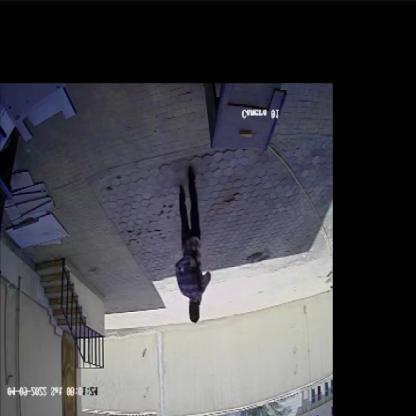handgun: (186, 243, 209, 300)
